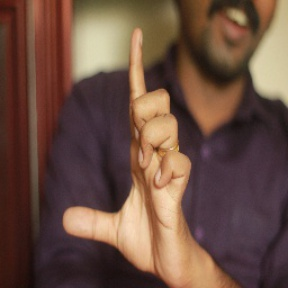L: (61, 27, 190, 268)
